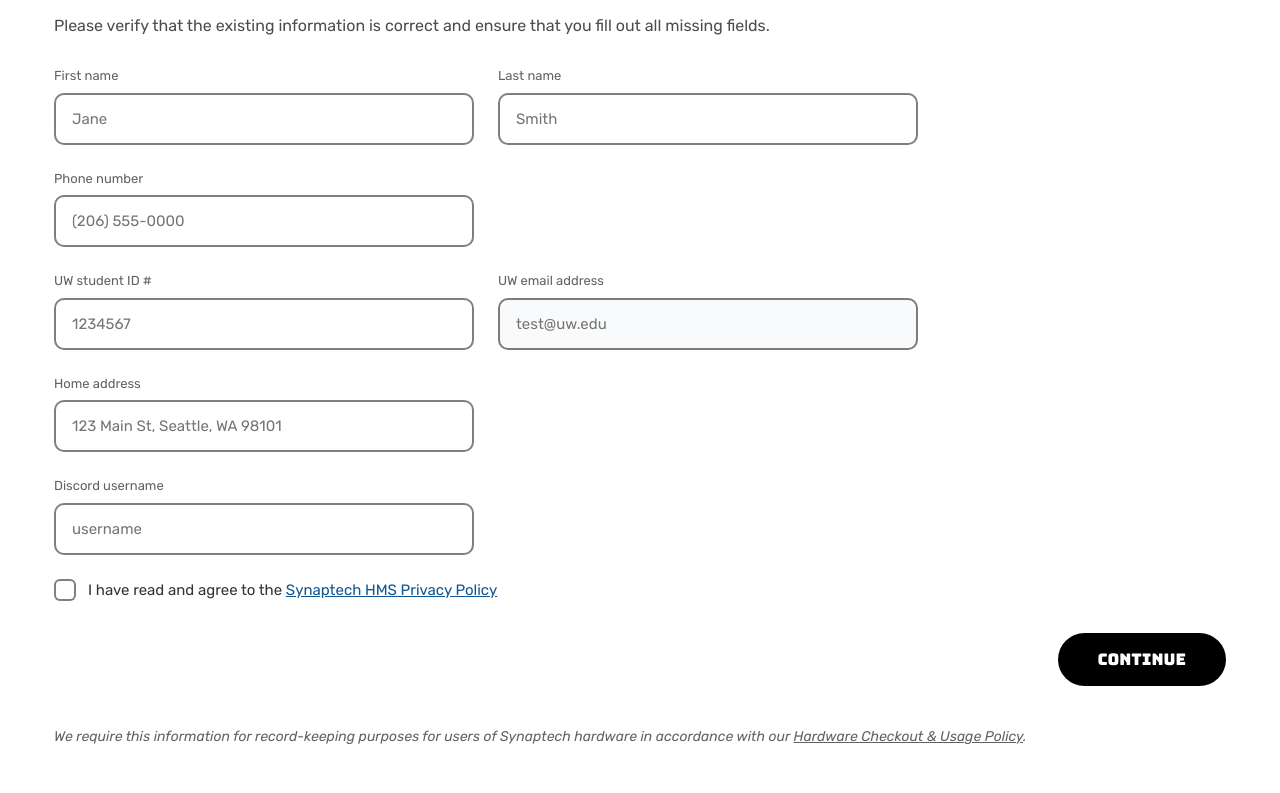
ProfileSetupPage — form validation › clears a field error once the user starts correcting it
The width and height of the screenshot is (1280, 793).
(page scrolled)
Click the button "Continue" at (1142, 660), box x1=1058 y1=633 x2=1226 y2=686
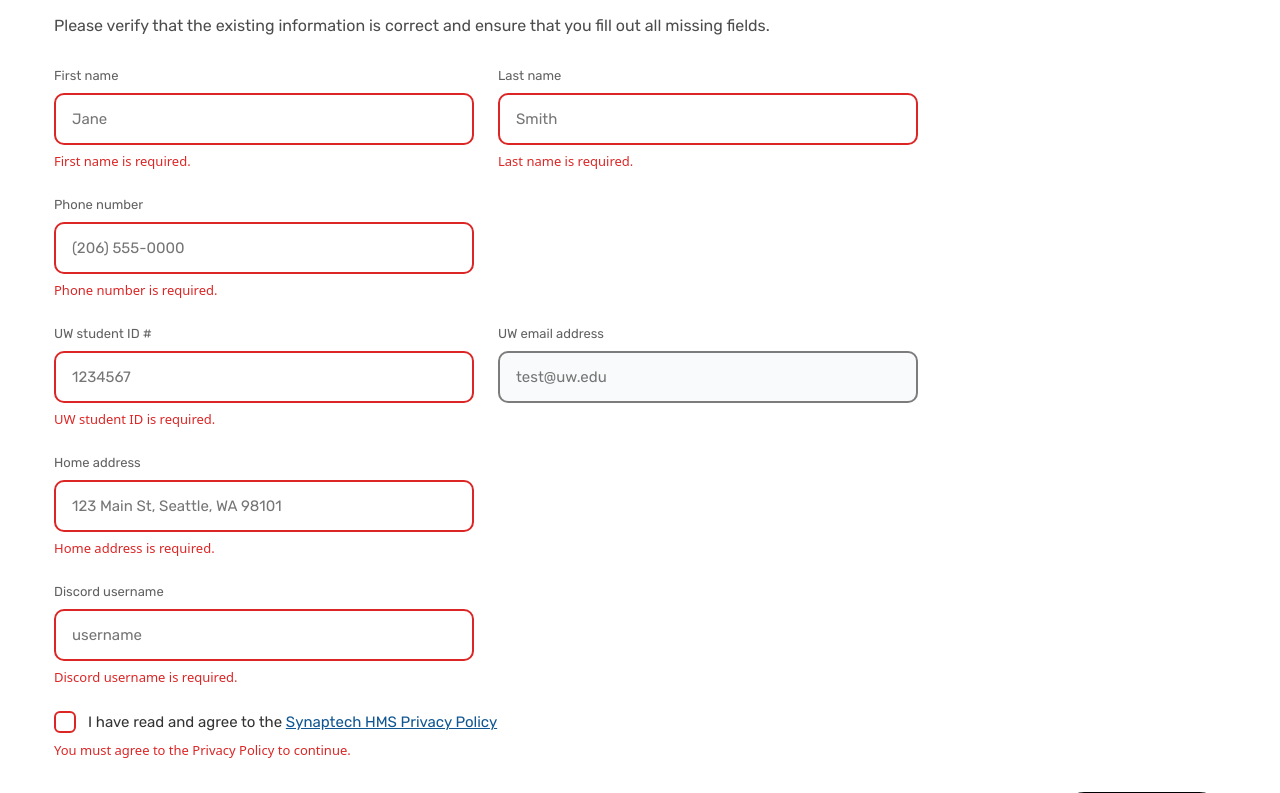
Expected: the text "First name is required." is shown, x1=54 y1=152 x2=191 y2=170
Type "J" into the field labelled "First name" at (264, 118), box x1=54 y1=92 x2=474 y2=144
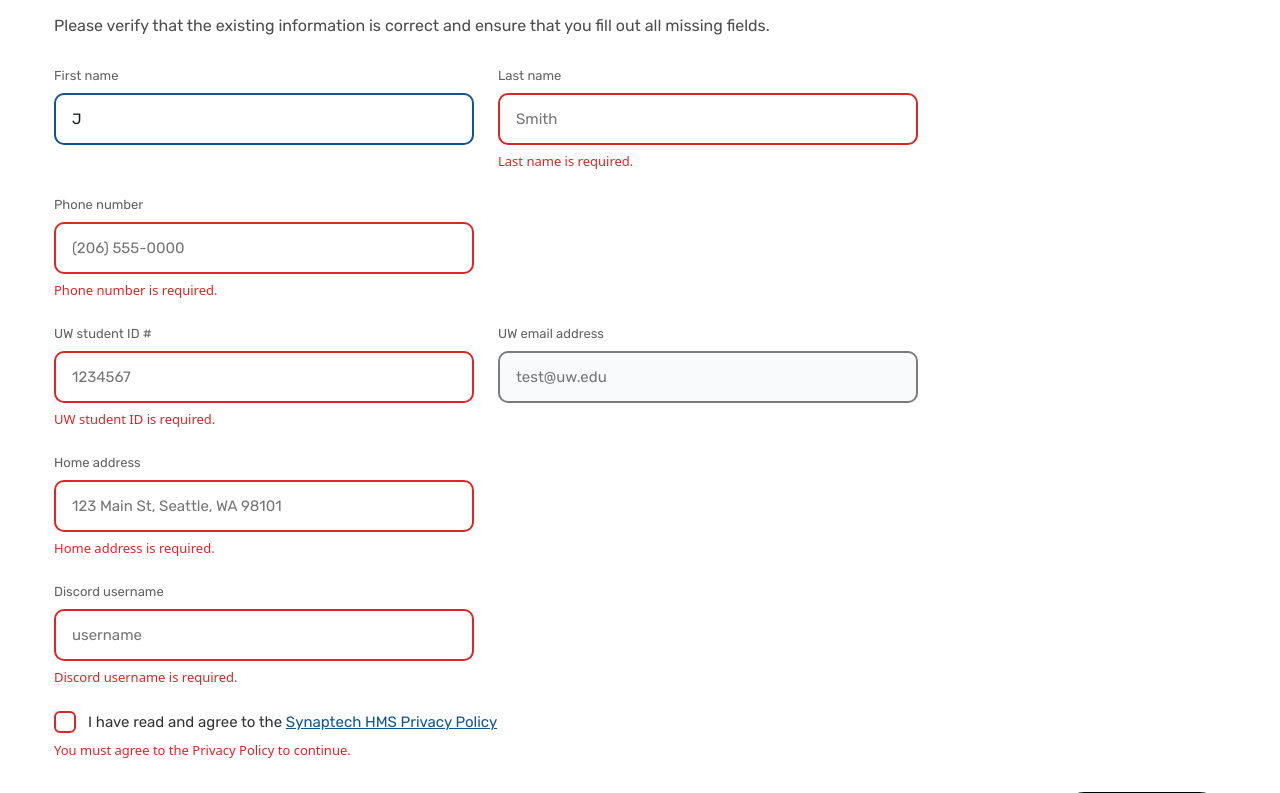
Expected: the text "First name is required." is gone
